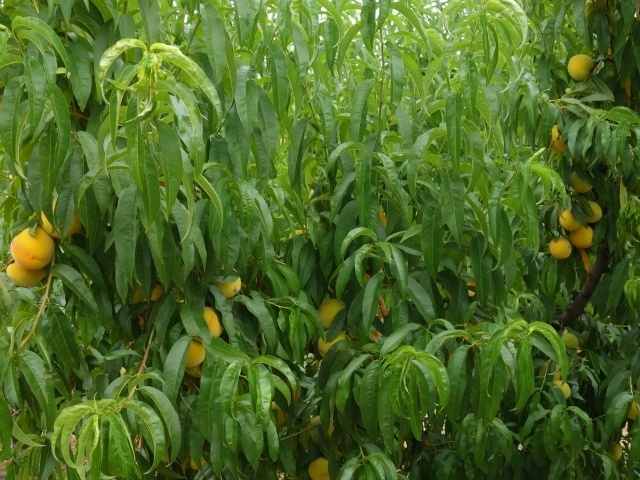peach: (36, 190, 89, 243), (5, 225, 57, 269), (1, 253, 49, 293), (188, 301, 226, 347), (314, 292, 357, 330), (318, 321, 354, 364), (563, 48, 601, 87), (543, 115, 573, 164), (174, 333, 212, 371), (569, 162, 601, 202), (572, 192, 607, 227), (214, 266, 245, 303), (179, 354, 215, 385), (556, 199, 587, 235), (568, 220, 600, 251), (543, 229, 573, 260), (303, 453, 337, 479), (549, 375, 576, 405), (559, 326, 586, 353)
